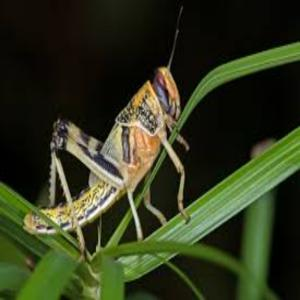locust: (42, 60, 188, 293)
